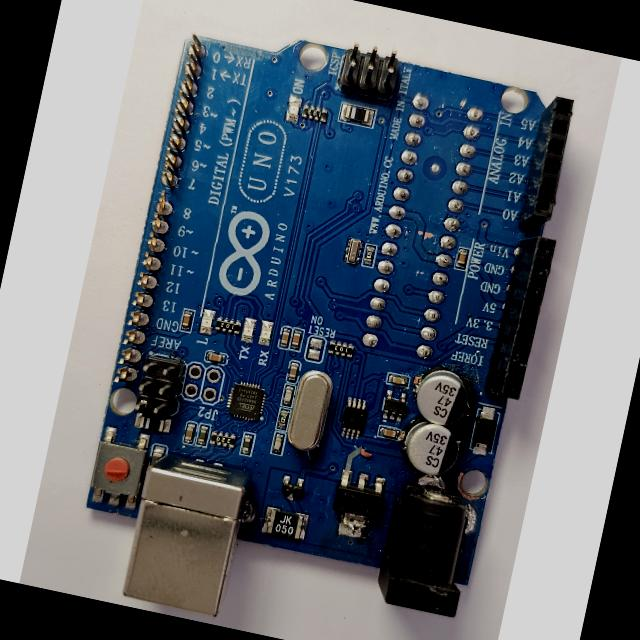missing_atmega: (357, 89, 495, 370)
missing_digital_pins: (103, 24, 224, 399)
